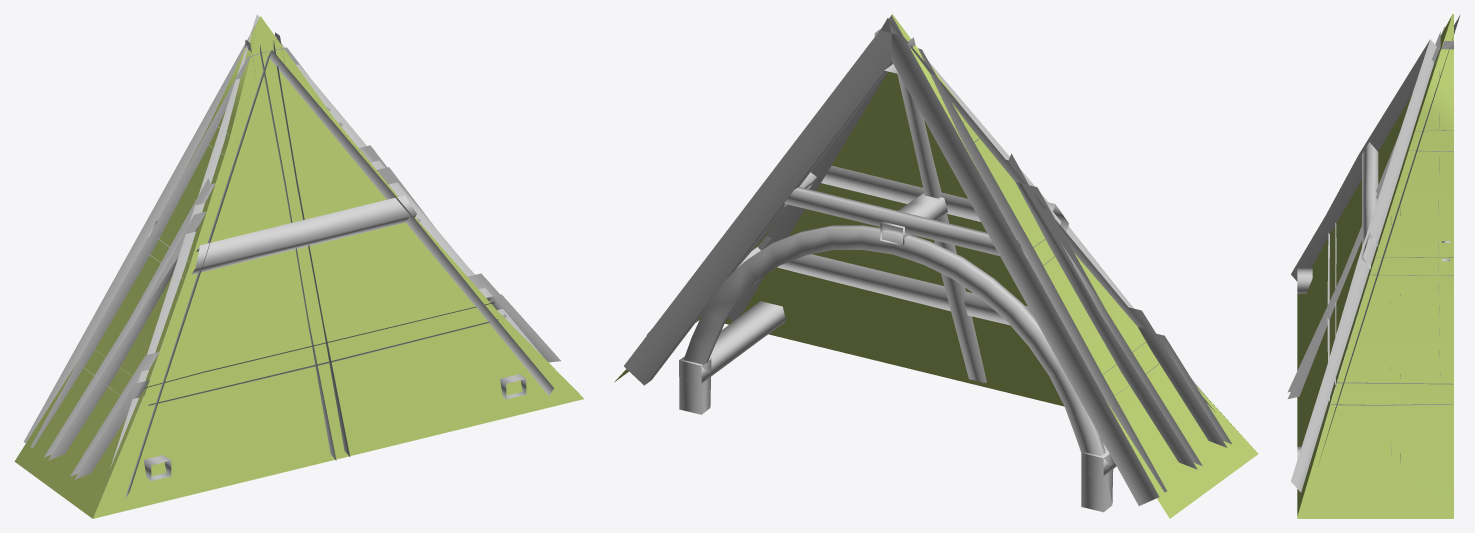
File: roof_inside_large_end.fbx
3 renders of one model, left to right at view 1: azimuth 30°, elevation 25°; view 2: azimuth 150°, elevation 25°; view 3: azimuth 270°, elevation 25°, orthographic. The views are drawn at different scales.
Parts seen in each view (by area): view 1: Cube.032; view 2: Cube.032; view 3: Cube.032.
Boxes of the visible parts, left/top/right/bottom form: Cube.032: left=14, top=14, right=583, bottom=518; Cube.032: left=614, top=14, right=1258, bottom=518; Cube.032: left=1287, top=14, right=1460, bottom=518.
Size of the model in its own units: 18.1 by 13.88 by 5.52.
